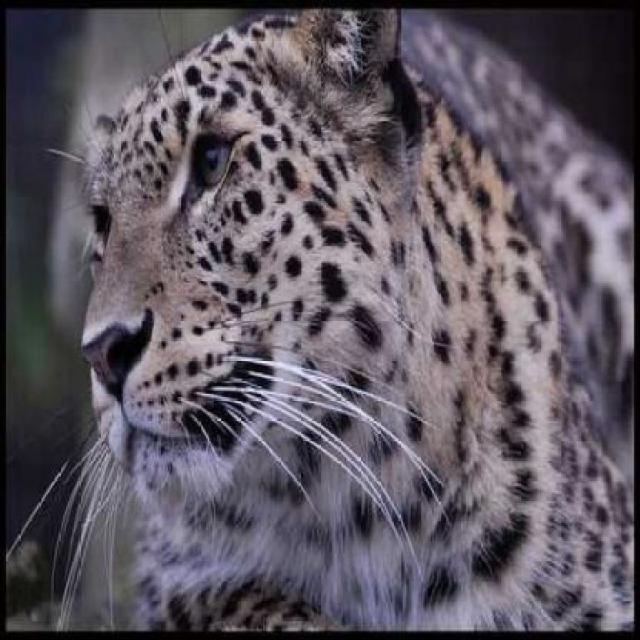Leopard: (48, 0, 626, 632)
